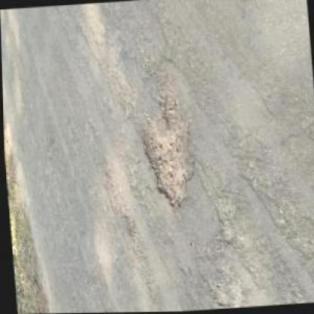Hueco: (133, 84, 197, 209)
